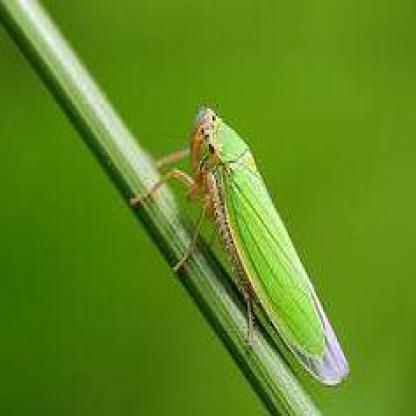Green-Leafhopper: (131, 102, 351, 388)
